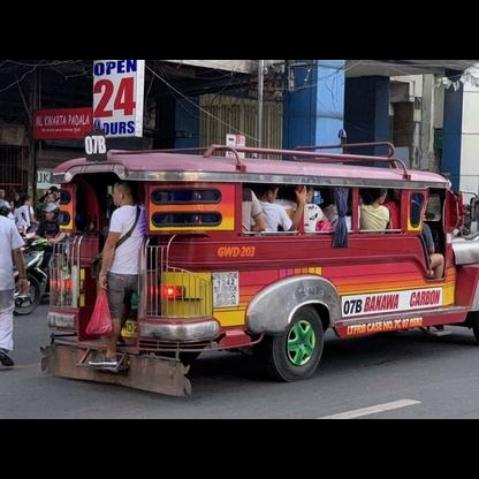jeepney: (44, 126, 479, 381)
